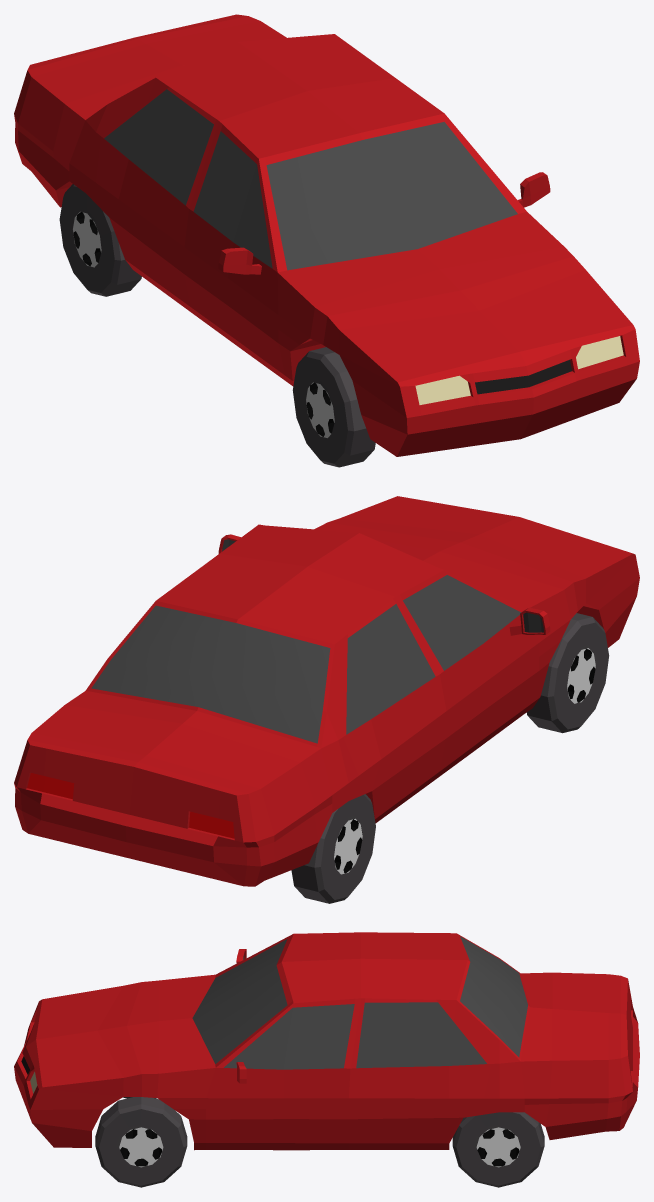
Rendered from 7red.fbx.
3 renders of one model, top to bottom at view 1: azimuth 30°, elevation 25°; view 2: azimuth 150°, elevation 25°; view 3: azimuth 270°, elevation 25°, orthographic. The views are drawn at different scales.
Visible parts, largest first — view 1: Cube; view 2: Cube; view 3: Cube.
Boxes of the visible parts, bbox=[...] form: Cube: bbox=[14, 14, 639, 467]; Cube: bbox=[14, 496, 639, 903]; Cube: bbox=[14, 932, 639, 1187].
Bounding box in the file's own units: 275 × 190 × 594.
